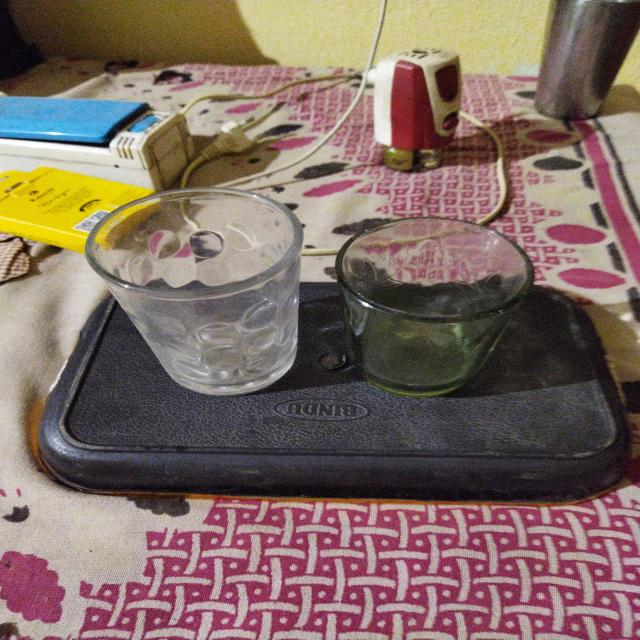Glass: (82, 182, 306, 398), (332, 212, 538, 399)
